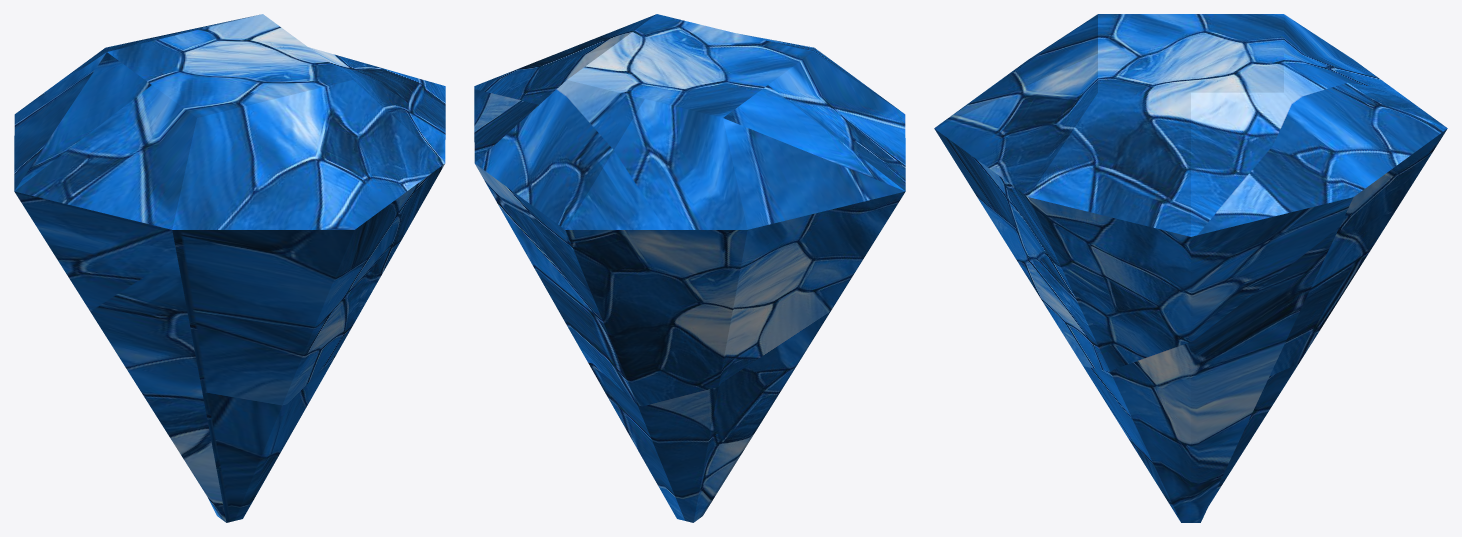
File: gemstone3BlueCompressed.glb
The picture shows the model from 3 angles, left to right: view 1: azimuth 30°, elevation 25°; view 2: azimuth 150°, elevation 25°; view 3: azimuth 270°, elevation 25°; orthographic projection. The views are drawn at different scales.
Parts seen in each view (by area): view 1: gemstone2; view 2: gemstone2; view 3: gemstone2.
Part boxes in pixels (x1,y1,x2,y2): gemstone2: [14, 14, 445, 522]; gemstone2: [474, 14, 905, 522]; gemstone2: [934, 14, 1447, 522].
Size of the model in its own units: 1 by 1 by 1.
1 material, 1 textured.
